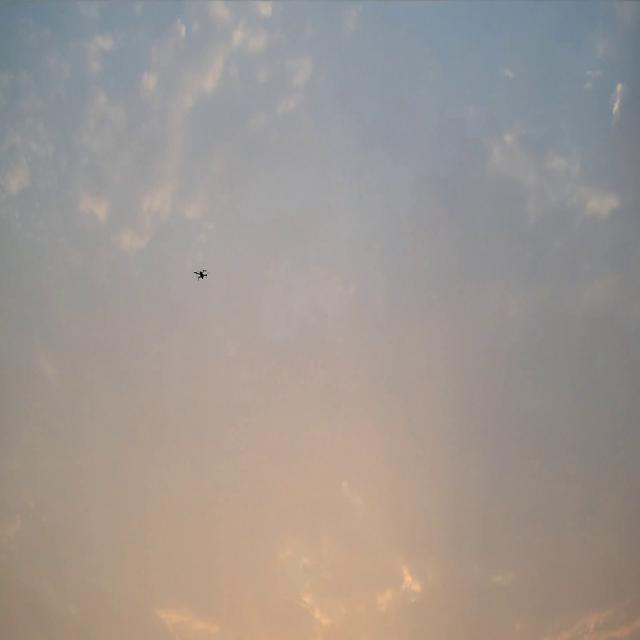UAV: (193, 268, 209, 280)
